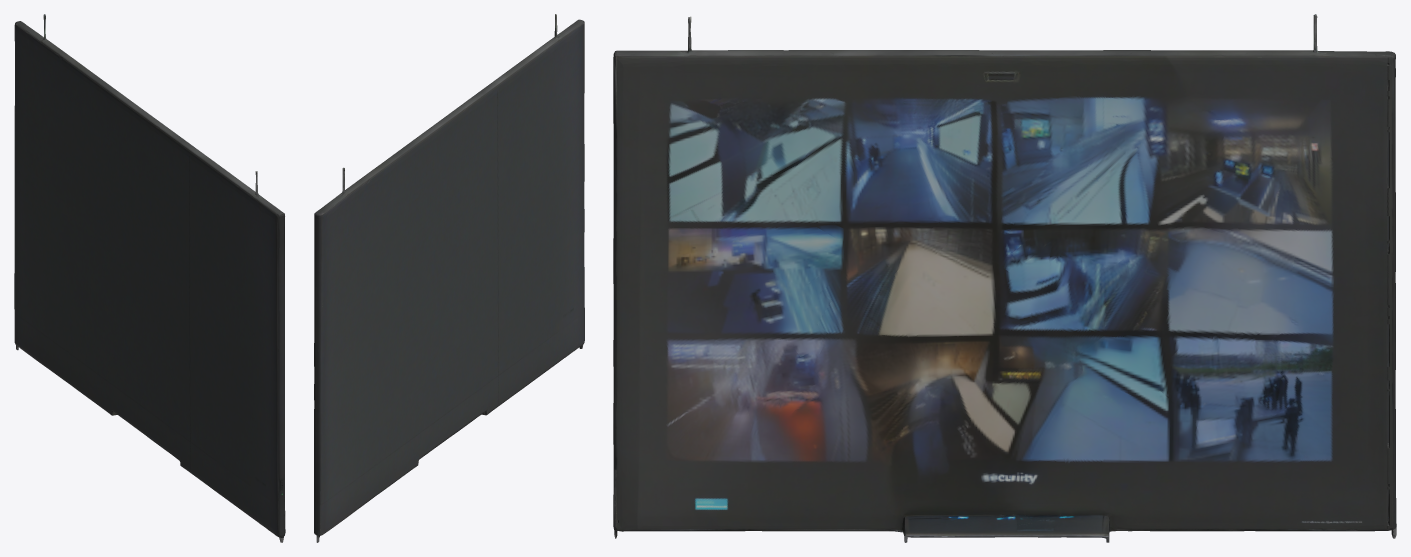
Rendered from 보안실에_들어갈_0524071517_texture.fbx.
3 views of the same model, side by side, from view 1: azimuth 30°, elevation 25°; view 2: azimuth 150°, elevation 25°; view 3: azimuth 270°, elevation 25° (orthographic). The views are drawn at different scales.
Parts seen in each view (by area): view 1: temp; view 2: temp; view 3: temp.
Part boxes in pixels (x1,y1,x2,y2): temp: (14,14,285,542); temp: (314,14,584,542); temp: (613,14,1396,542).
Size of the model in its own units: 9.88 by 148 by 200.
1 material, 1 textured.
